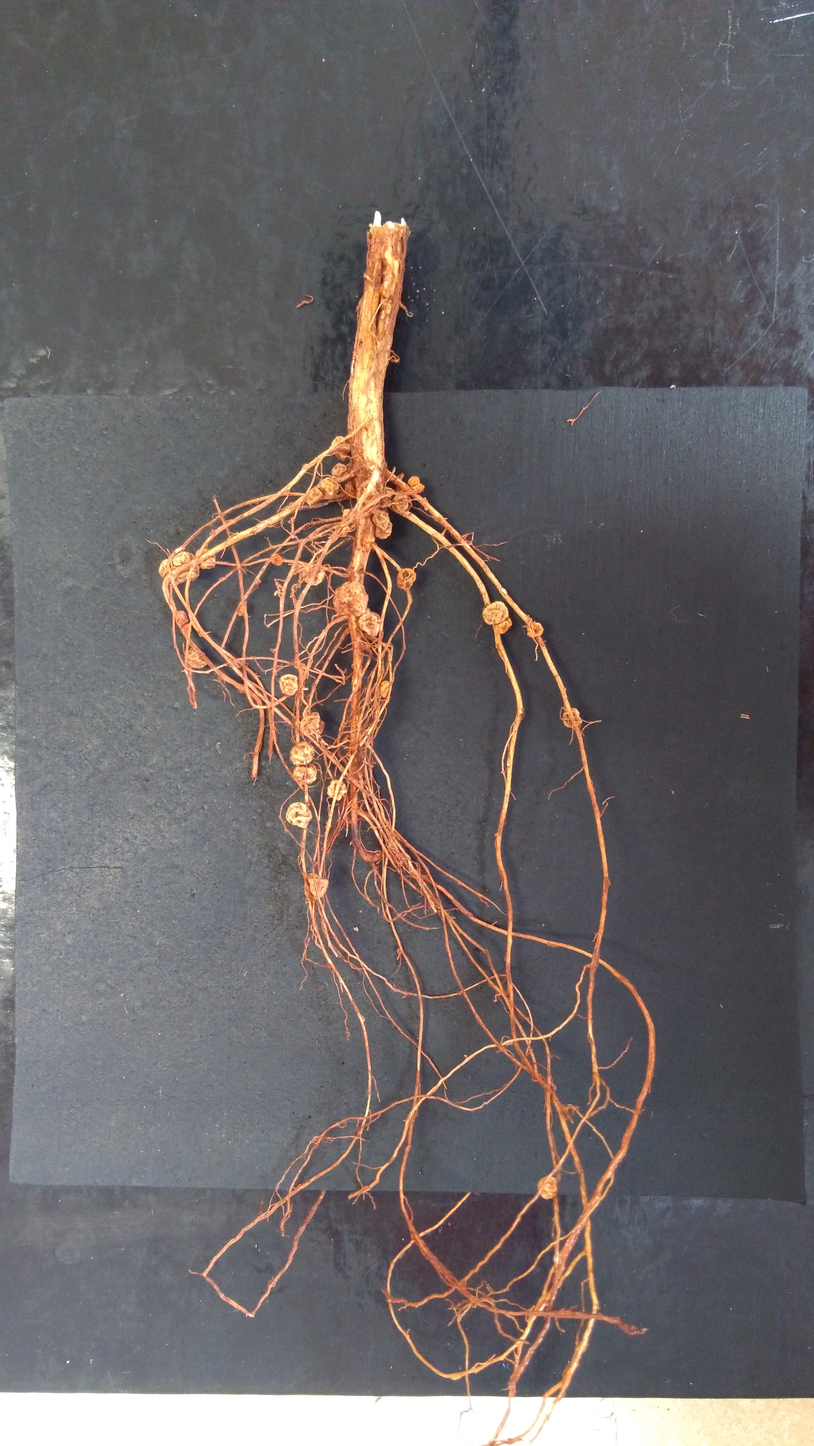nodule: (159, 552, 199, 586), (333, 582, 368, 616), (285, 802, 312, 828), (358, 607, 380, 637), (482, 601, 508, 625), (290, 741, 315, 765), (356, 480, 380, 504), (301, 712, 325, 735), (307, 873, 329, 897), (292, 764, 317, 785), (302, 563, 324, 586), (537, 1175, 557, 1199), (331, 436, 350, 461), (279, 673, 298, 696), (327, 780, 347, 801), (393, 490, 412, 512), (562, 708, 582, 728), (304, 486, 324, 506), (196, 549, 216, 569), (397, 568, 416, 588), (372, 509, 390, 530), (321, 477, 339, 498), (186, 650, 207, 668), (375, 520, 392, 539), (341, 509, 355, 530), (495, 617, 512, 634), (408, 476, 424, 493), (527, 622, 544, 637), (333, 464, 347, 477), (345, 481, 355, 498), (270, 553, 283, 566), (177, 610, 189, 624), (380, 680, 389, 698), (238, 600, 247, 616), (385, 486, 394, 501), (341, 526, 350, 538), (369, 506, 378, 515), (184, 623, 192, 633), (396, 947, 402, 955), (255, 579, 261, 585), (209, 529, 214, 535), (287, 520, 292, 524)
